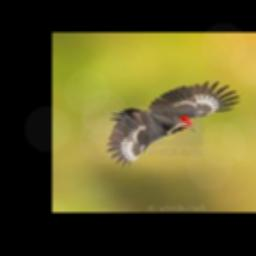Woodpecker: (105, 80, 240, 167)
